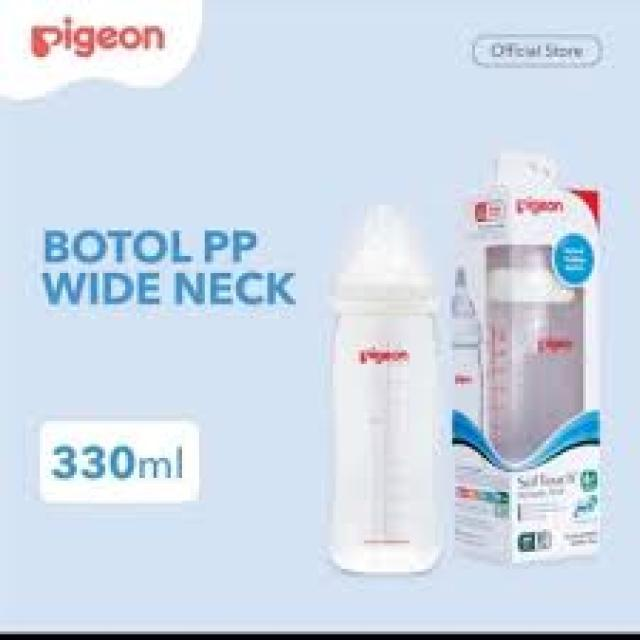good: (321, 209, 474, 592)
